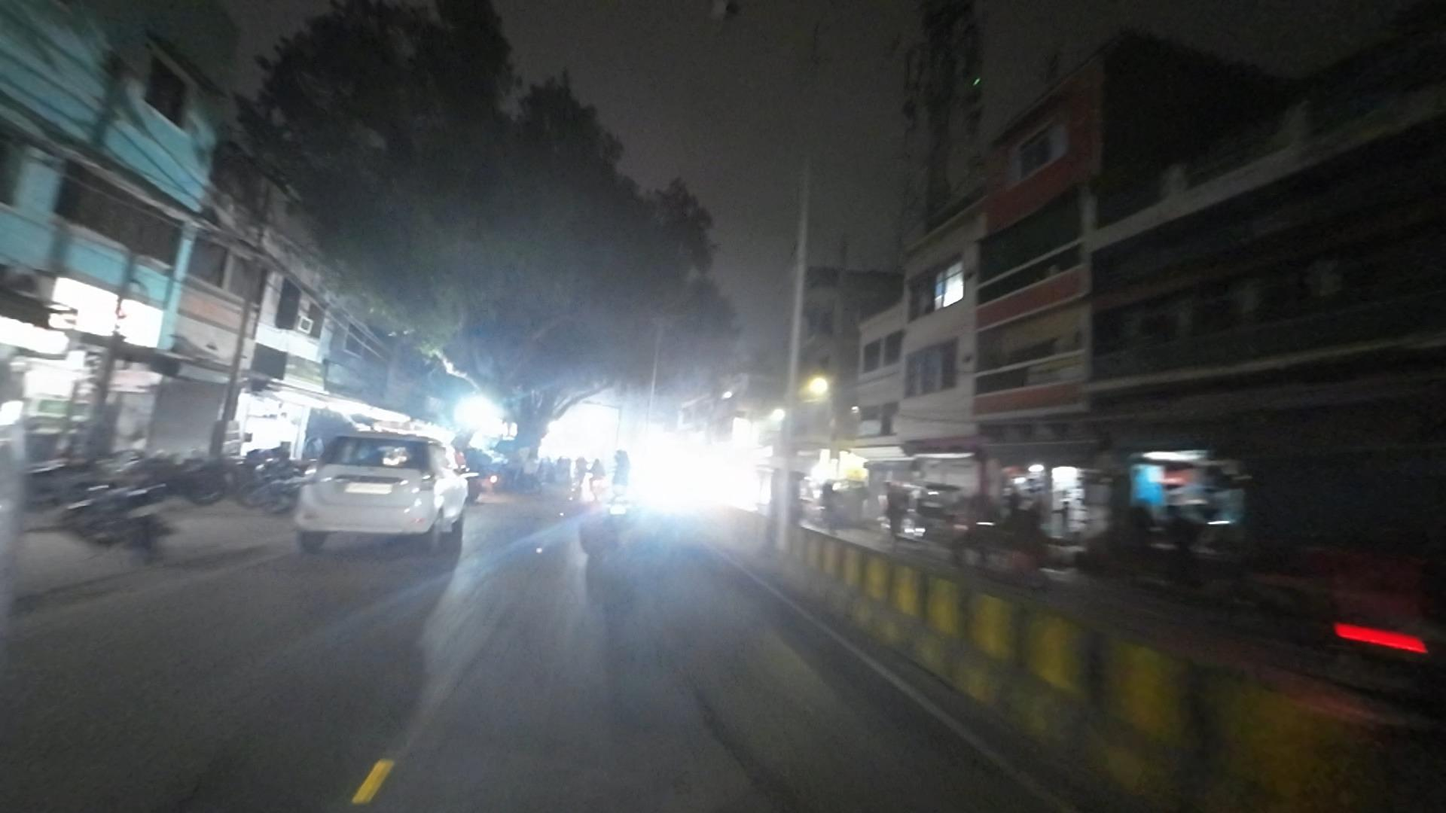streetlight: (707, 0, 797, 32)
